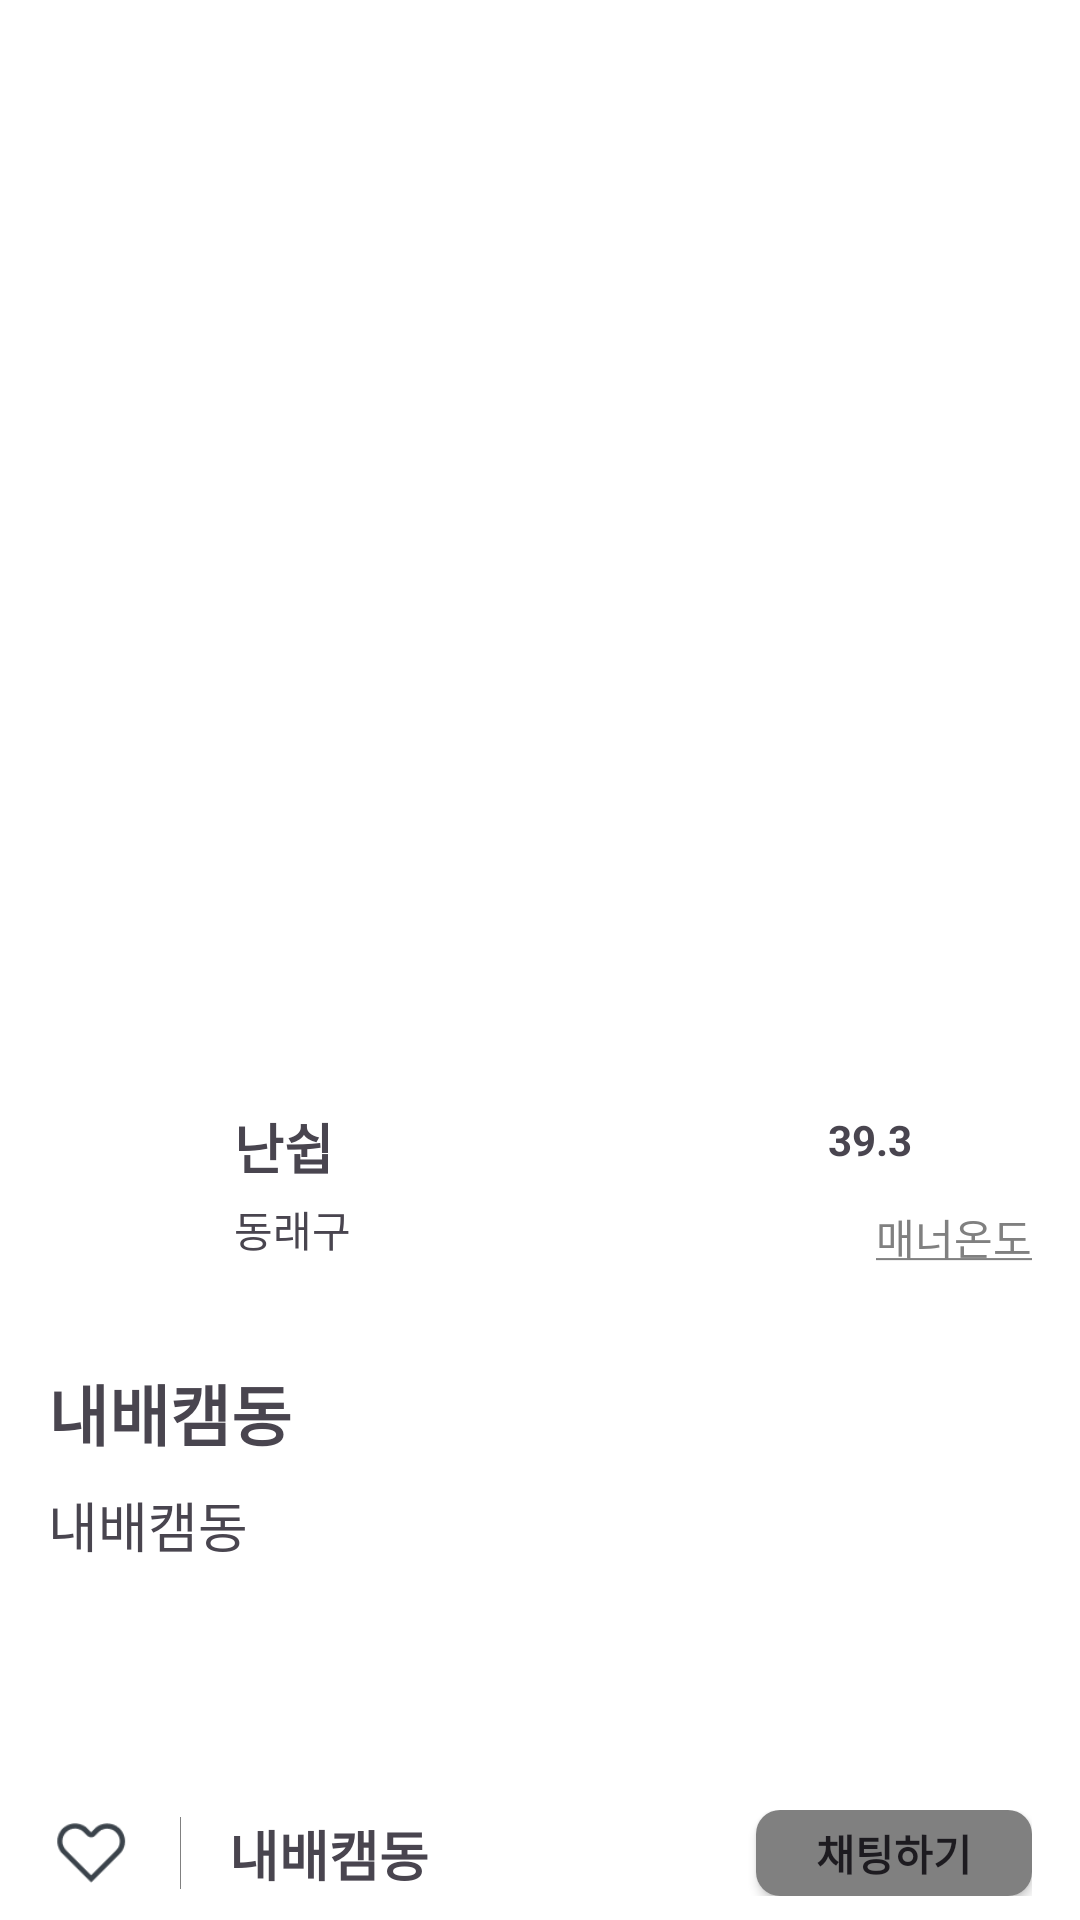

Where to tap for icons on this 1080×1920 app screen, as [x,y]:
like: [91,1853]
